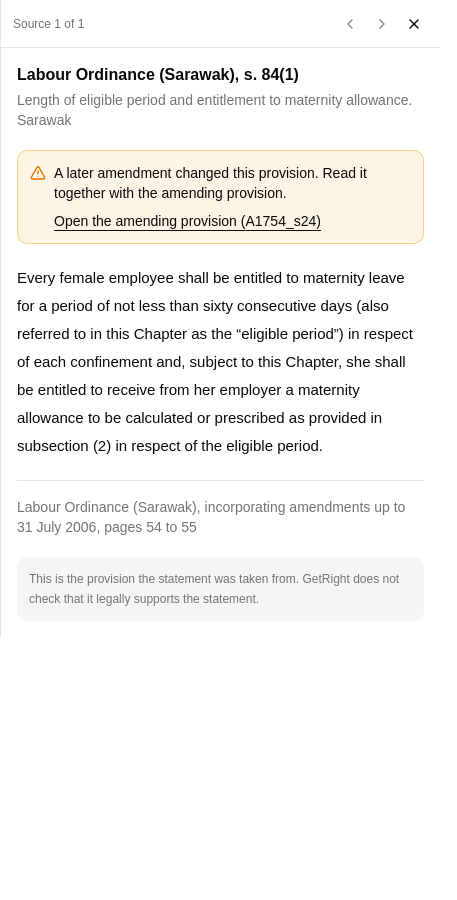
a superseded provision says so and opens its amendment
This screenshot has width=457, height=900.
Expected: the text "A later amendment changed this provision" is shown, [54,165,367,201]
Click the button "Open the amending provision (A1754_s24)": (188, 221) [54,211,321,231]
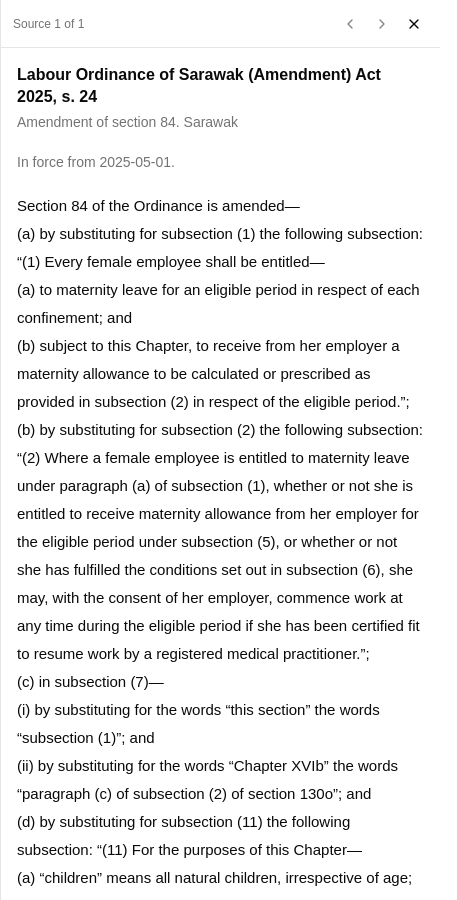
Result: the heading "Labour Ordinance of Sarawak (Amendment) Act 2025, s. 24" is shown at [17,64,424,108]
Result: the text "In force from 2025-05-01." is shown at [17,154,175,170]
